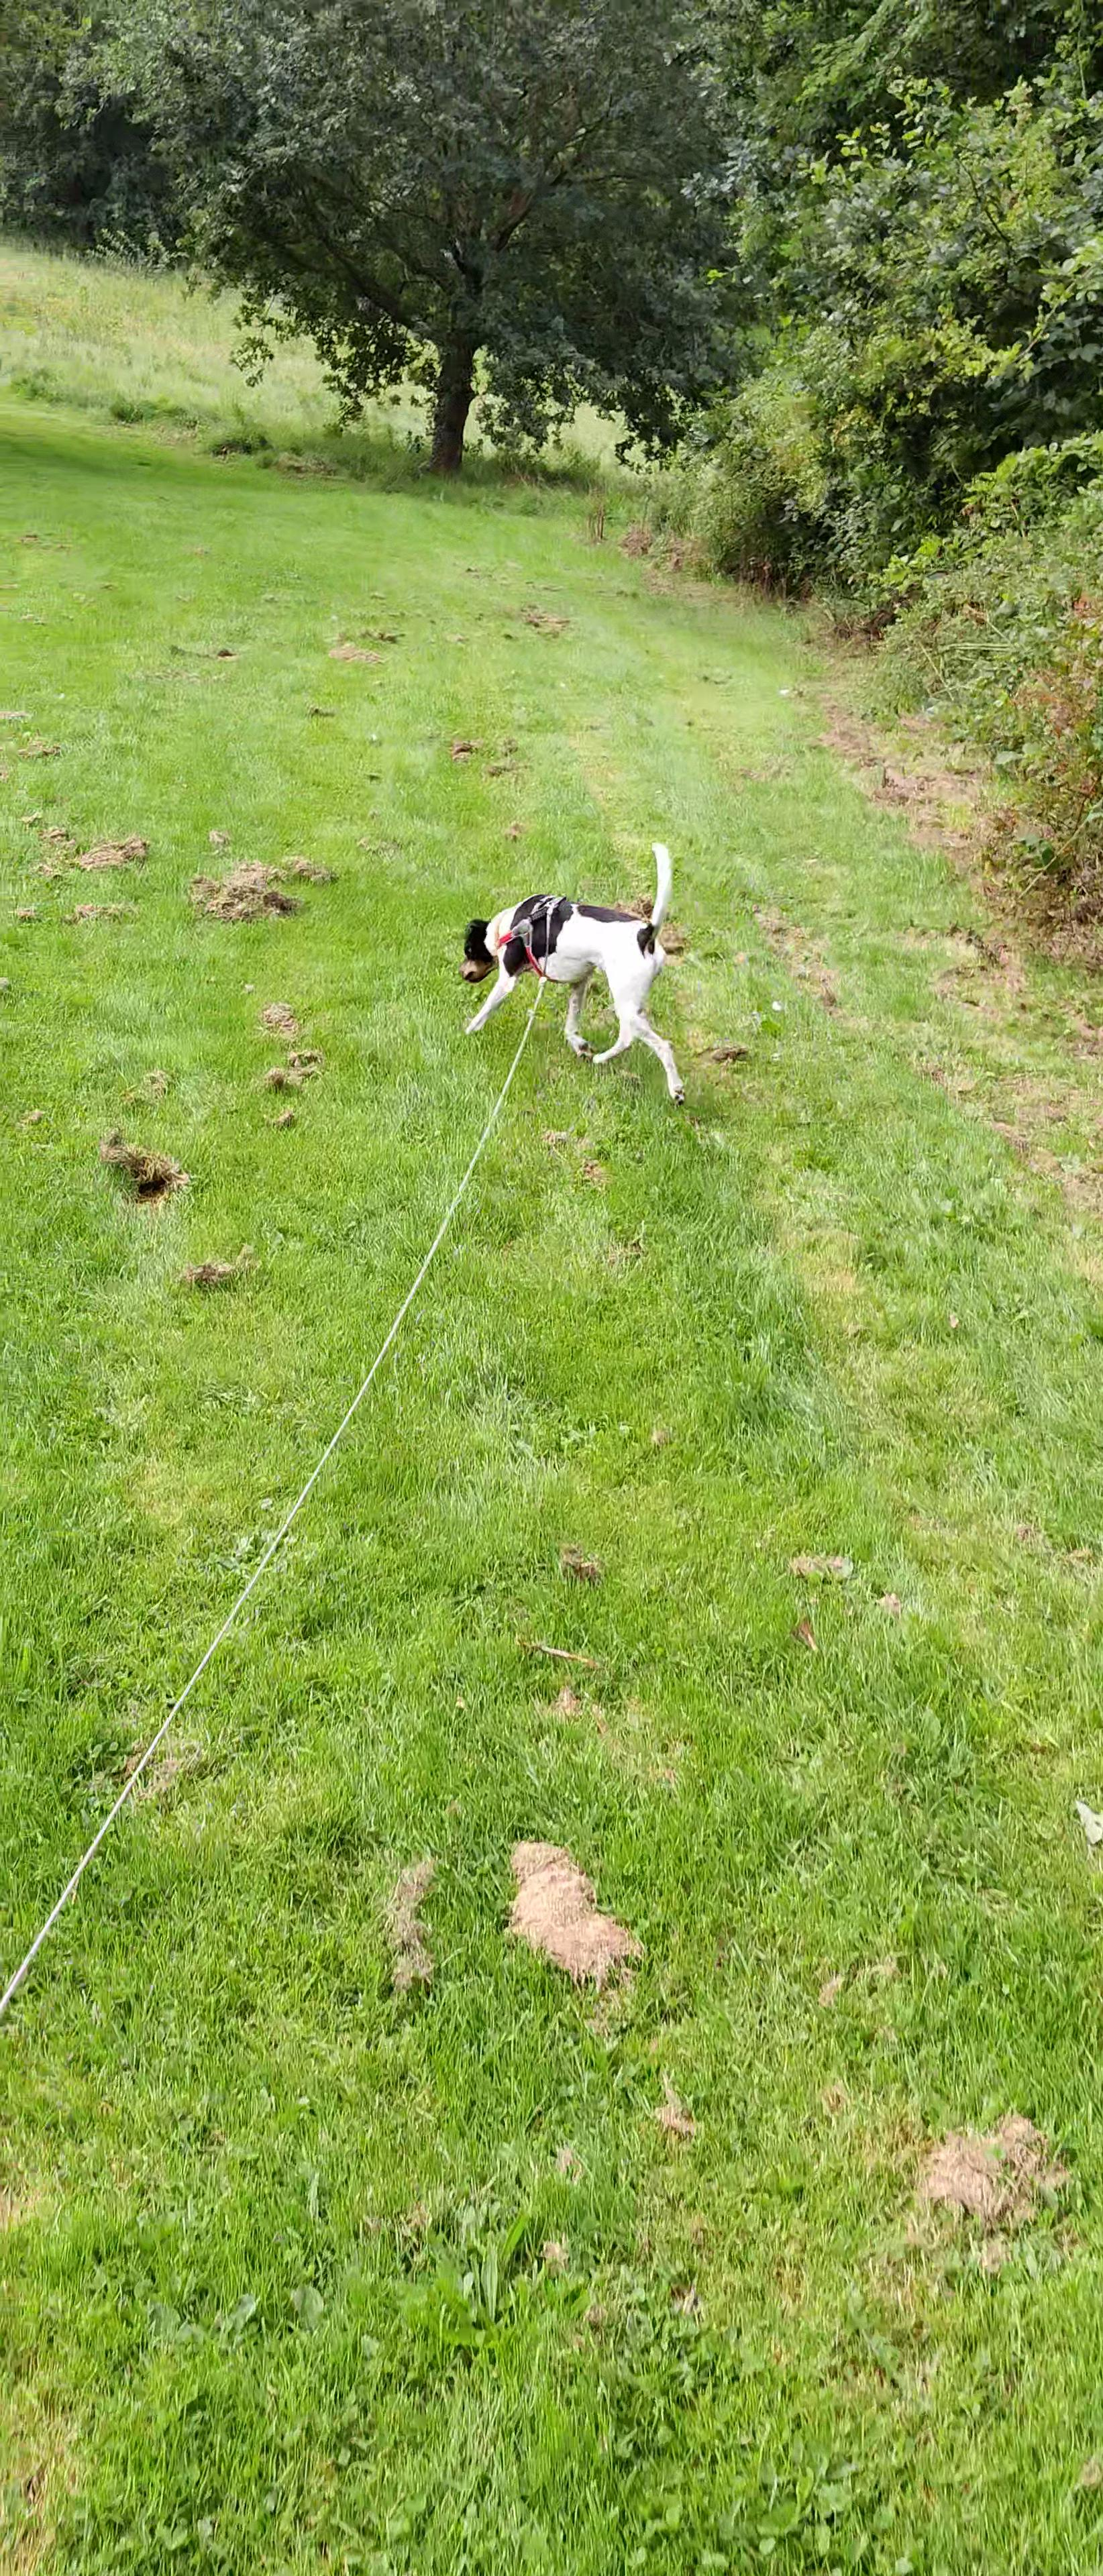Dog: (447, 820, 705, 1117)
